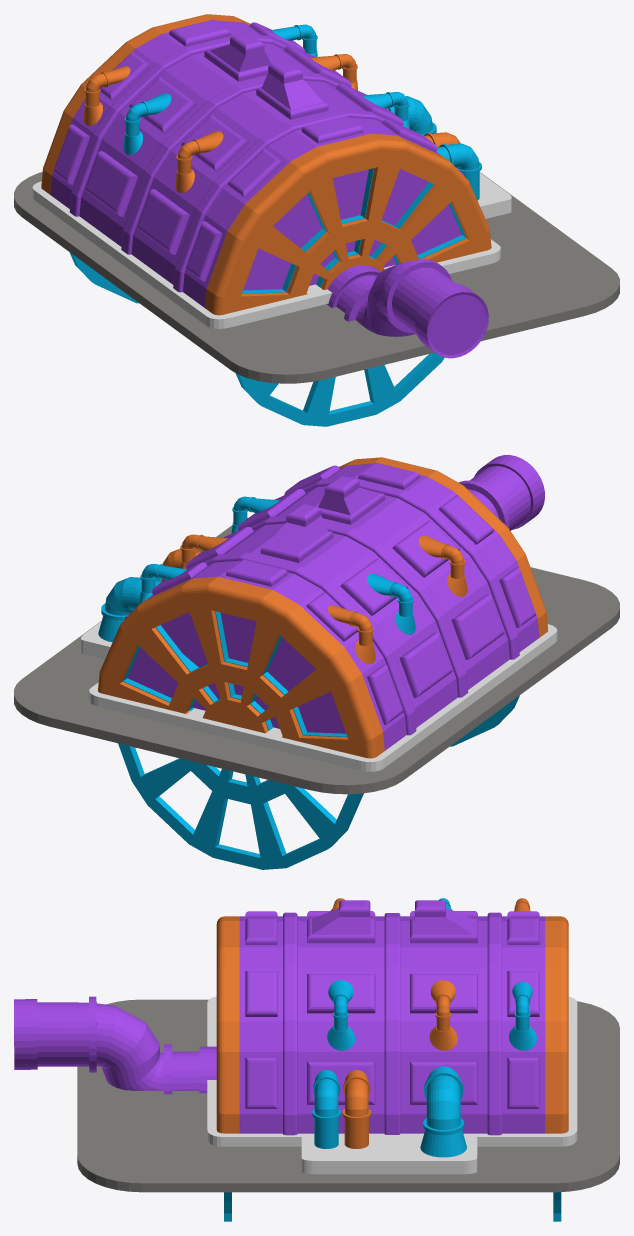
File: GeneratorKomplesi.fbx
3 renders of one model, top to bottom at view 1: azimuth 30°, elevation 25°; view 2: azimuth 150°, elevation 25°; view 3: azimuth 270°, elevation 25°, orthographic.
Parts seen in each view (by area): view 1: Cylinder, zemin, Cylinder.003, BaglantiParcasi.001, Cylinder.004, zemin.001, Cylinder.001, BaglantiParcasi.009, BaglantiParcasi.010, BaglantiParcasi.008, BaglantiParcasi.002, zemin.002 (+5 smaller); view 2: Cylinder, zemin, Cylinder.001, Cylinder.005, zemin.001, BaglantiParcasi.001, Cylinder.003, BaglantiParcasi.004, BaglantiParcasi.010, BaglantiParcasi.009, BaglantiParcasi.008, BaglantiParcasi.007 (+4 smaller); view 3: Cylinder, zemin, BaglantiParcasi.001, zemin.002, Cylinder.001, Cylinder.003, zemin.001, BaglantiParcasi.004, BaglantiParcasi.002, BaglantiParcasi.003, BaglantiParcasi.006, BaglantiParcasi.005 (+1 smaller).
Boxes of the visible parts, x1=… form: Cylinder: x1=50, y1=19, x2=464, y2=307; zemin: x1=14, y1=172, x2=619, y2=383; Cylinder.003: x1=205, y1=133, x2=491, y2=315; BaglantiParcasi.001: x1=327, y1=259, x2=488, y2=358; Cylinder.004: x1=235, y1=168, x2=466, y2=426; zemin.001: x1=32, y1=181, x2=500, y2=328; Cylinder.001: x1=41, y1=14, x2=250, y2=194; BaglantiParcasi.009: x1=123, y1=93, x2=171, y2=155; BaglantiParcasi.010: x1=175, y1=131, x2=223, y2=192; BaglantiParcasi.008: x1=83, y1=66, x2=130, y2=125; BaglantiParcasi.002: x1=436, y1=143, x2=481, y2=200; zemin.002: x1=477, y1=172, x2=511, y2=218; Cylinder: x1=124, y1=462, x2=539, y2=750; zemin: x1=14, y1=518, x2=619, y2=794; Cylinder.001: x1=98, y1=576, x2=384, y2=758; Cylinder.005: x1=118, y1=611, x2=363, y2=869; zemin.001: x1=89, y1=624, x2=557, y2=771; BaglantiParcasi.001: x1=459, y1=455, x2=544, y2=530; Cylinder.003: x1=339, y1=457, x2=547, y2=637; BaglantiParcasi.004: x1=98, y1=577, x2=162, y2=642; BaglantiParcasi.010: x1=418, y1=536, x2=467, y2=596; BaglantiParcasi.009: x1=367, y1=573, x2=415, y2=634; BaglantiParcasi.008: x1=328, y1=605, x2=375, y2=664; BaglantiParcasi.007: x1=139, y1=564, x2=187, y2=604; Cylinder: x1=239, y1=900, x2=545, y2=1135; zemin: x1=77, y1=999, x2=619, y2=1192; BaglantiParcasi.001: x1=14, y1=996, x2=216, y2=1094; zemin.002: x1=301, y1=1135, x2=477, y2=1174; Cylinder.001: x1=545, y1=916, x2=568, y2=1133; Cylinder.003: x1=216, y1=916, x2=239, y2=1133; zemin.001: x1=207, y1=996, x2=577, y2=1146; BaglantiParcasi.004: x1=420, y1=1066, x2=466, y2=1157; BaglantiParcasi.002: x1=312, y1=1070, x2=340, y2=1148; BaglantiParcasi.003: x1=342, y1=1070, x2=370, y2=1148; BaglantiParcasi.006: x1=429, y1=980, x2=457, y2=1050; BaglantiParcasi.005: x1=327, y1=980, x2=354, y2=1050.
Size of the model in its own units: 4.06 by 3.11 by 5.66.
